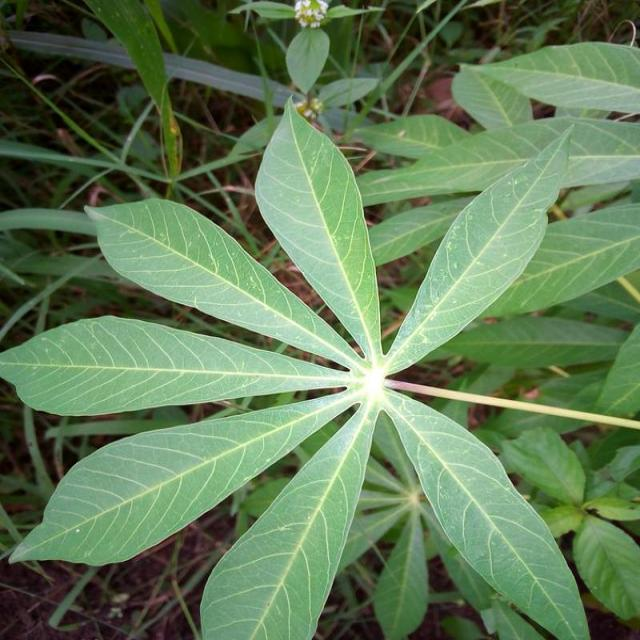cassava leaf: (2, 94, 594, 637), (381, 385, 592, 639), (383, 122, 576, 376), (85, 195, 366, 369), (200, 401, 379, 638), (254, 93, 384, 364)
